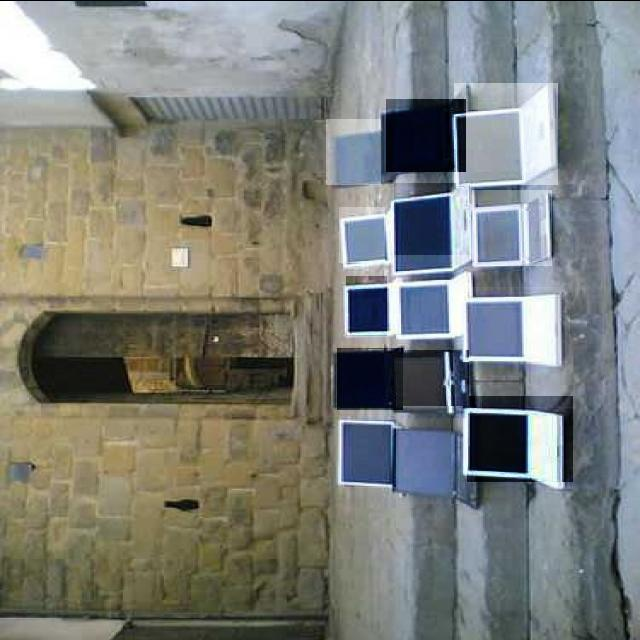-keyboard-: (454, 83, 558, 185), (464, 396, 574, 482), (455, 287, 568, 363), (472, 190, 552, 266), (400, 418, 468, 504), (386, 99, 466, 172), (394, 183, 470, 256), (395, 266, 461, 336), (394, 351, 469, 406), (337, 348, 403, 410), (326, 119, 381, 185), (344, 420, 396, 487), (339, 208, 385, 264), (346, 276, 387, 336)
